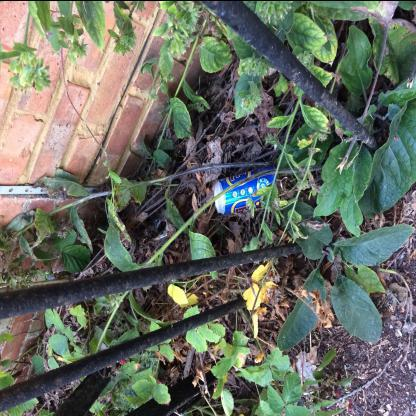metal: (214, 164, 280, 215)
